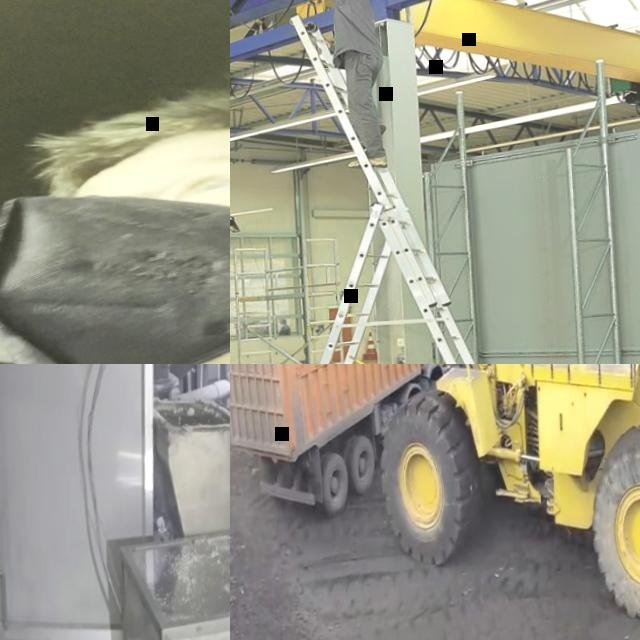Mask: (0, 171, 230, 364)
NO-Hardhat: (70, 71, 230, 181)
NO-Safety Vest: (332, 0, 381, 60)
Person: (0, 65, 230, 364), (286, 0, 392, 172)
machinery: (230, 364, 640, 640), (230, 364, 464, 531)
